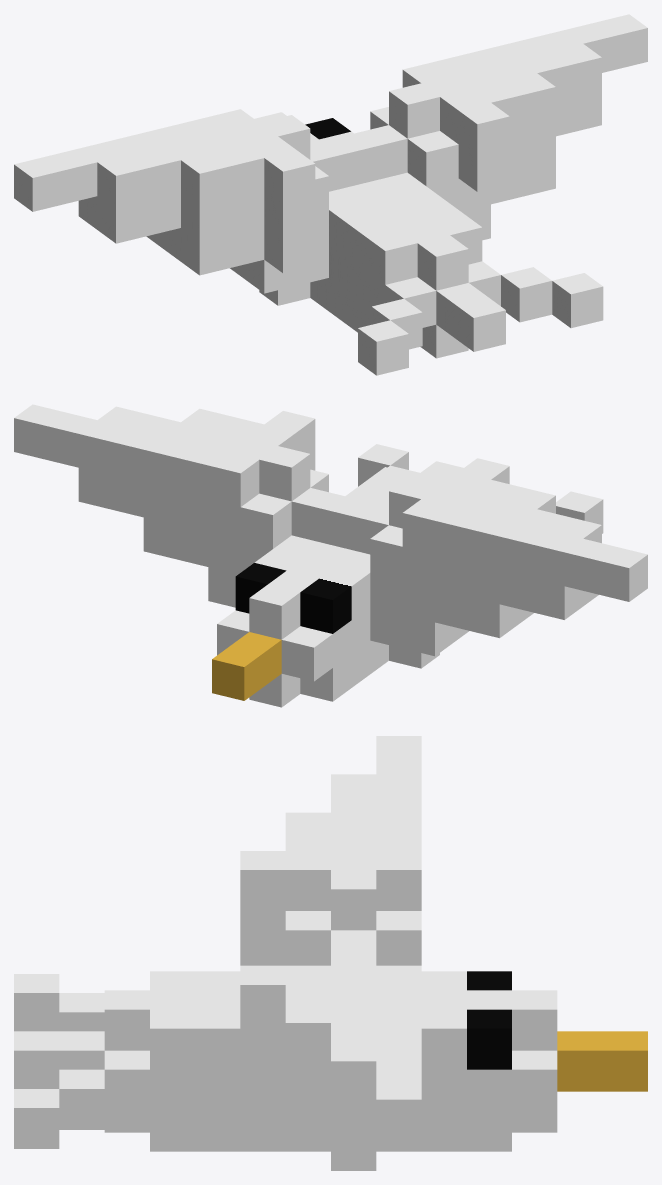
File: Bird.dae
3 views of the same model, one above another, from view 1: azimuth 30°, elevation 25°; view 2: azimuth 150°, elevation 25°; view 3: azimuth 270°, elevation 25° (orthographic). The views are drawn at different scales.
Visible parts, largest first — view 1: Matrix; view 2: Matrix; view 3: Matrix.
Part boxes in pixels (box(x1,y1,x2,y2)): Matrix: box(14, 14, 647, 375); Matrix: box(14, 404, 647, 707); Matrix: box(14, 736, 647, 1170).
Size of the model in its own units: 19 by 5 by 14.
1 material, 1 textured.
